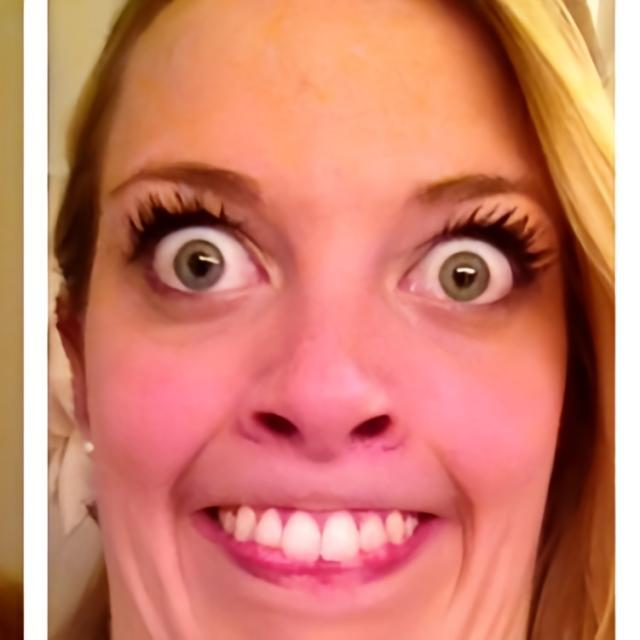surprise: (82, 0, 573, 640)
